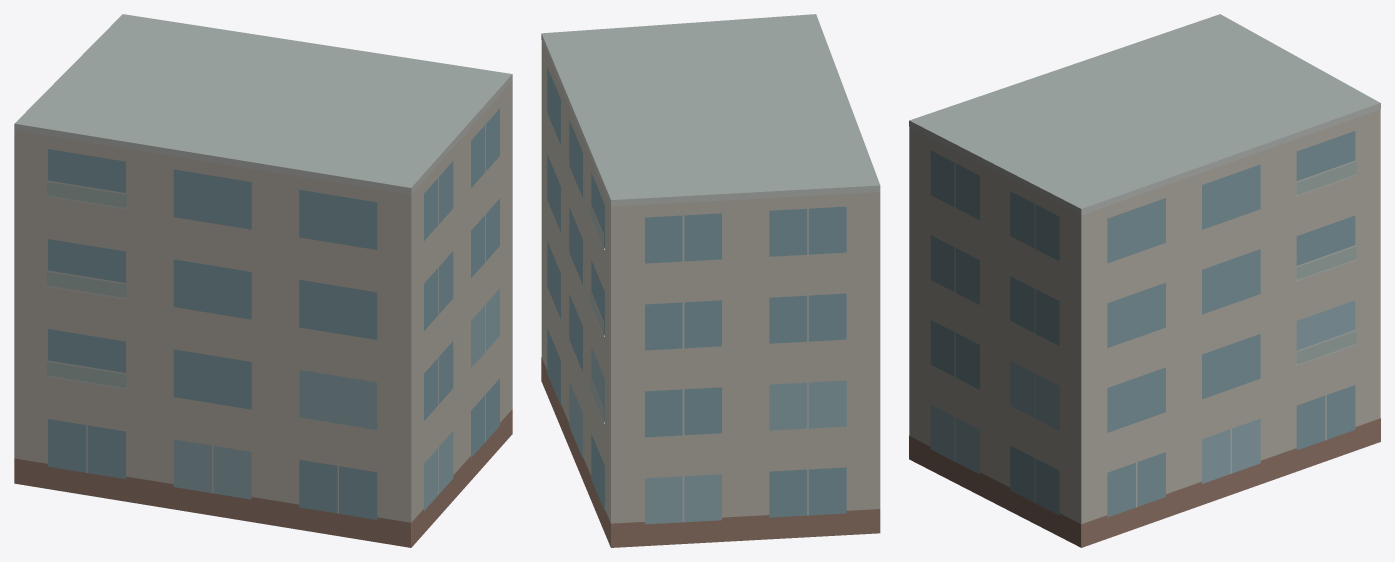
The model's file is survey-upis-32834734.glb.
3 views of the same model, side by side, from view 1: azimuth 30°, elevation 25°; view 2: azimuth 150°, elevation 25°; view 3: azimuth 270°, elevation 25° (orthographic). The views are drawn at different scales.
Parts seen in each view (by area): view 1: survey-upis-32834734.tmp; view 2: survey-upis-32834734.tmp; view 3: survey-upis-32834734.tmp.
Part boxes in pixels (bbox=[...]): survey-upis-32834734.tmp: bbox=[14, 14, 512, 547]; survey-upis-32834734.tmp: bbox=[541, 14, 880, 547]; survey-upis-32834734.tmp: bbox=[909, 14, 1380, 547].
Size of the model in its own units: 16.18 by 13.1 by 16.53.
